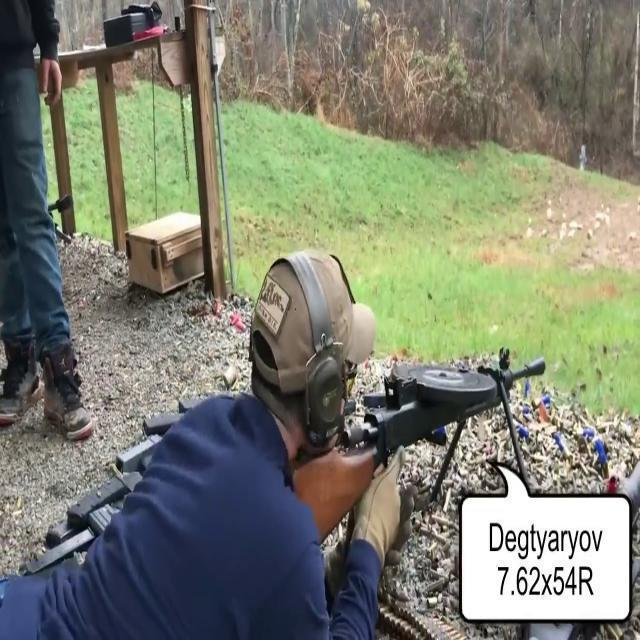Rifle: (272, 297, 580, 511)
